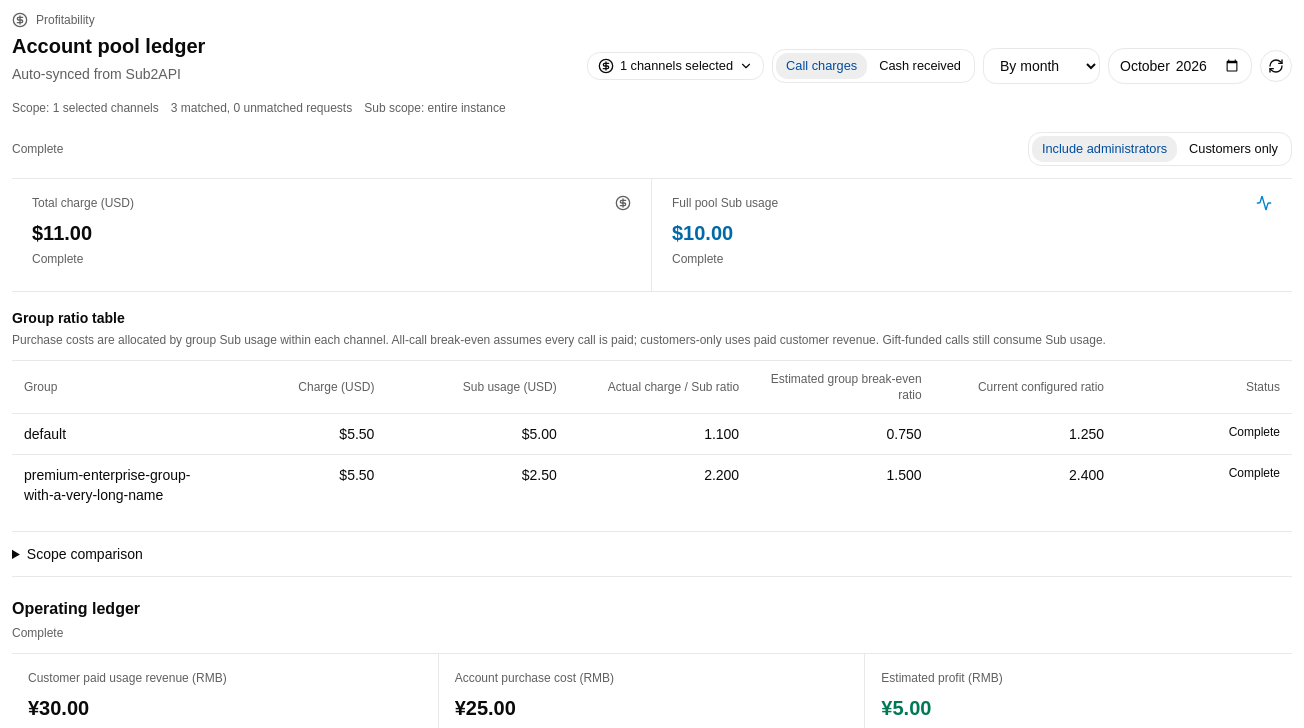
ProfitabilityCalculator › defaults to the full pool and switches headline and per-group metrics to customers only
The width and height of the screenshot is (1304, 728).
Expected: the text "$11.00" is shown, [32, 222, 92, 244]
Expected: the text "$10.00" is shown, [672, 222, 733, 244]
Click the button "Customers only" at {"x": 1234, "y": 149}, box [1178, 135, 1289, 163]
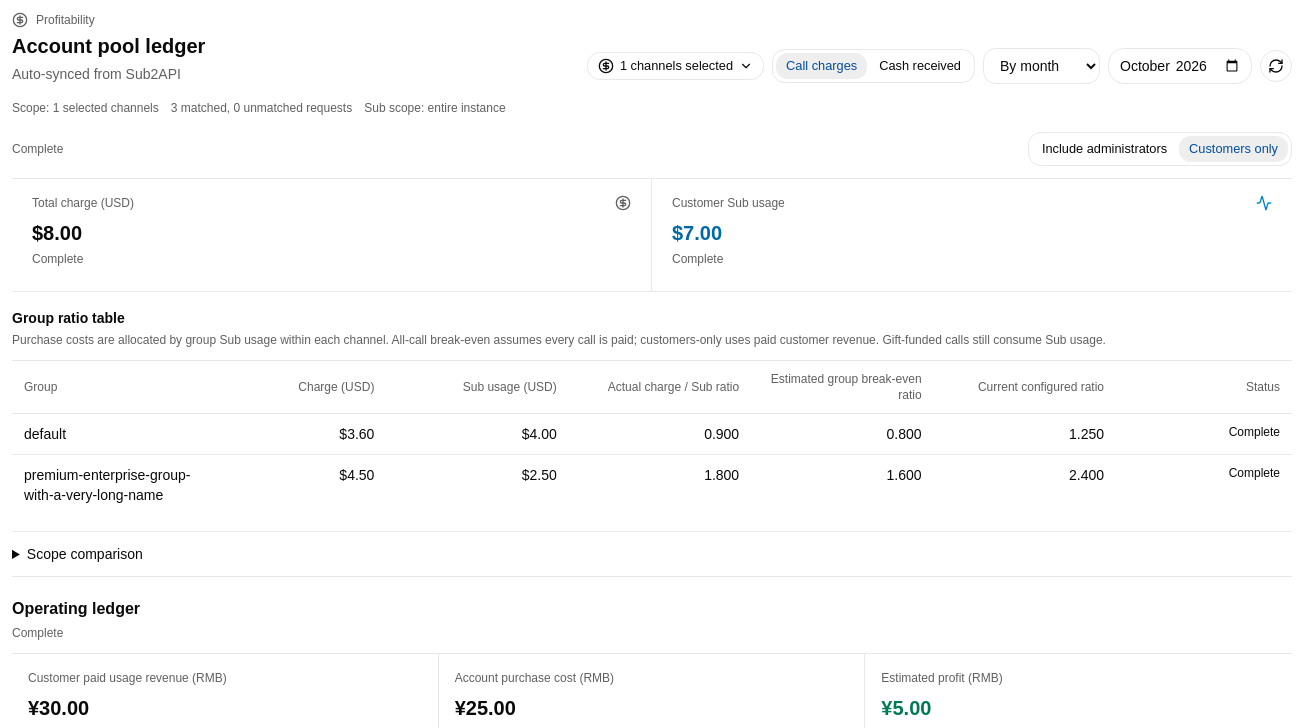
Now the text "$8.00" is shown, box [32, 222, 82, 244]
Now the text "$7.00" is shown, box [672, 222, 722, 244]
Now the text "0.900" is shown, box [569, 414, 751, 454]
